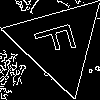F: (33, 18, 85, 59)
